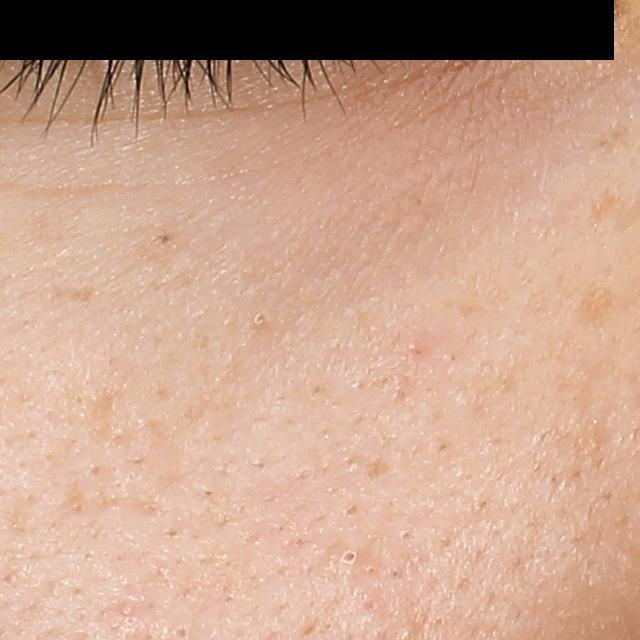comedo: (338, 500, 365, 523), (252, 309, 272, 331)
melasma: (576, 284, 617, 324), (590, 188, 625, 226), (591, 122, 633, 150)
